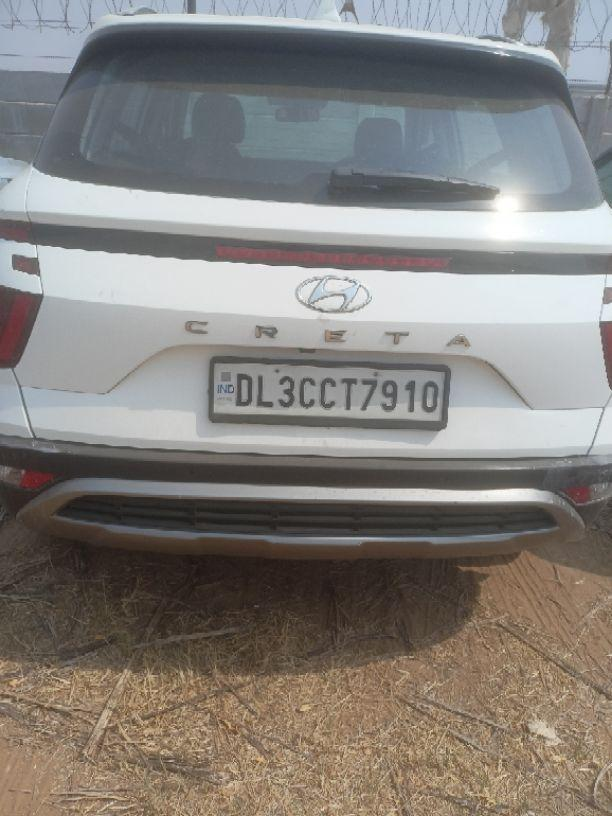license_plate: (207, 354, 451, 430)
